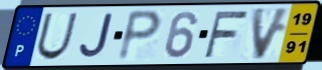6: (162, 10, 200, 60)
F: (201, 9, 251, 60)
J: (77, 12, 115, 61)
P: (115, 9, 165, 63)
U: (34, 11, 80, 62)
V: (250, 6, 293, 62)
